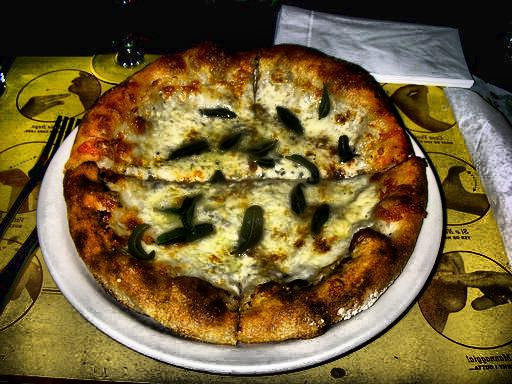pizza: (63, 49, 402, 312)
